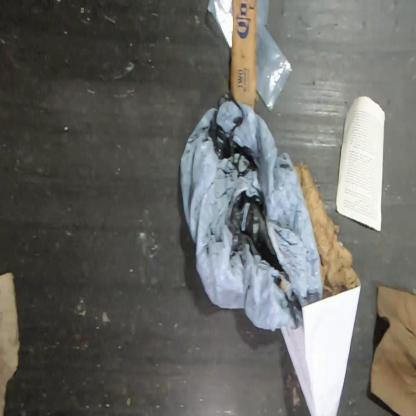cardboard: (294, 162, 362, 297), (230, 0, 260, 111), (0, 270, 22, 415)
soft_plastic: (179, 92, 323, 333), (256, 0, 294, 114), (207, 0, 233, 50)
